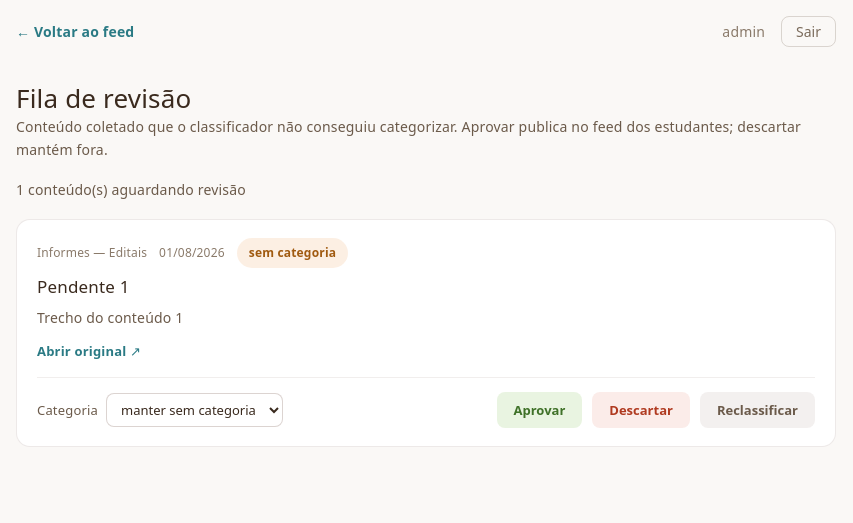
Revisão — ações › mantém o item na fila e avisa quando a ação falha
Expected: the heading "Pendente 1" is shown, top-left (37, 275), bottom-right (130, 298)
Click the button "Aprovar" at (539, 410), box top-left (496, 392), bottom-right (582, 428)
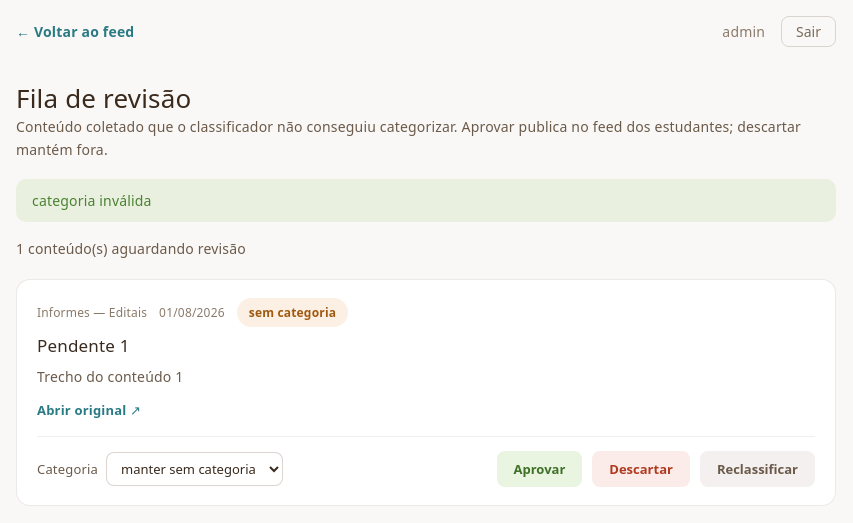
Expected: the heading "Pendente 1" is shown, top-left (37, 334), bottom-right (130, 357)
Now the message reads "categoria inválida", box top-left (32, 191), bottom-right (152, 210)
